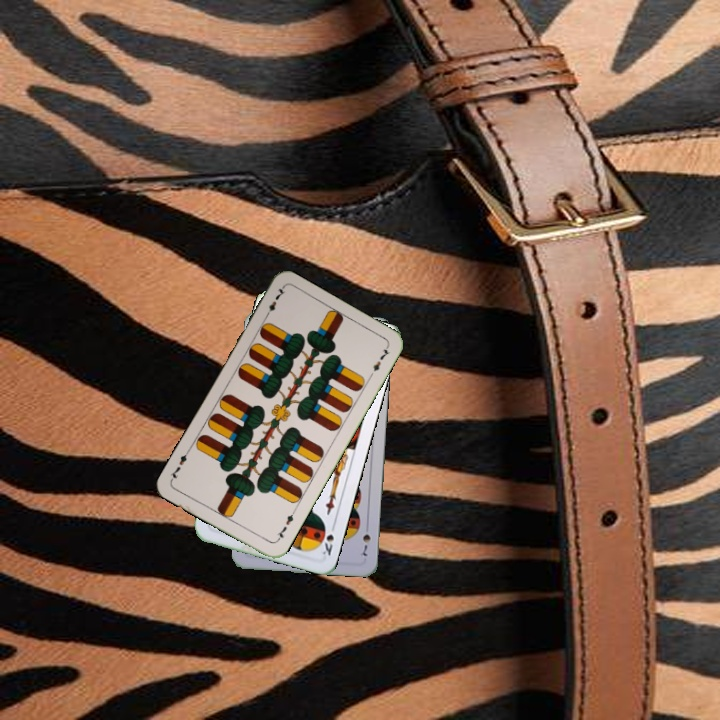E7: (261, 283, 287, 321), (272, 507, 298, 544)
S7: (358, 520, 373, 559)
SK: (316, 519, 338, 558)
